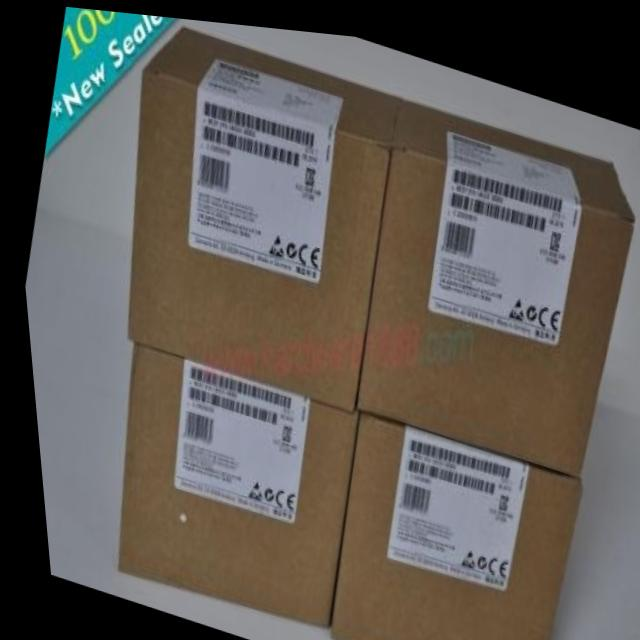box: (349, 89, 632, 466), (121, 20, 398, 404), (106, 340, 352, 621), (316, 405, 576, 640)
